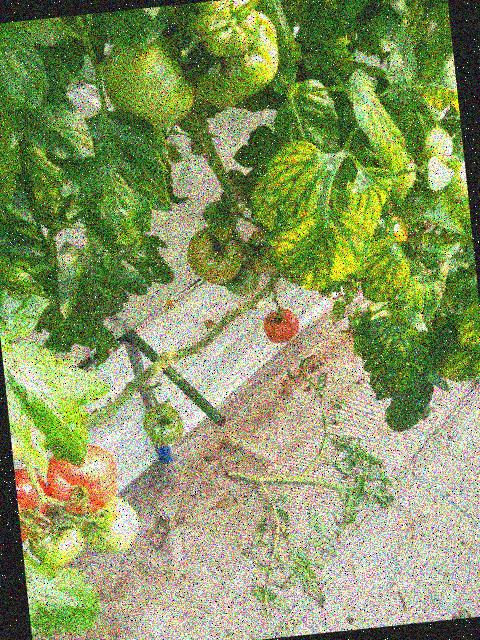b_fully_ripened: (14, 466, 54, 548), (261, 307, 301, 345)
b_green: (168, 0, 283, 114), (97, 24, 197, 136), (25, 502, 90, 571), (184, 222, 249, 288), (193, 0, 261, 61), (82, 493, 142, 556), (387, 176, 439, 226), (408, 122, 455, 171), (426, 154, 469, 204), (141, 402, 186, 449), (384, 155, 420, 205), (243, 226, 279, 275), (221, 258, 263, 298)
b_half_ripened: (44, 442, 121, 519)
